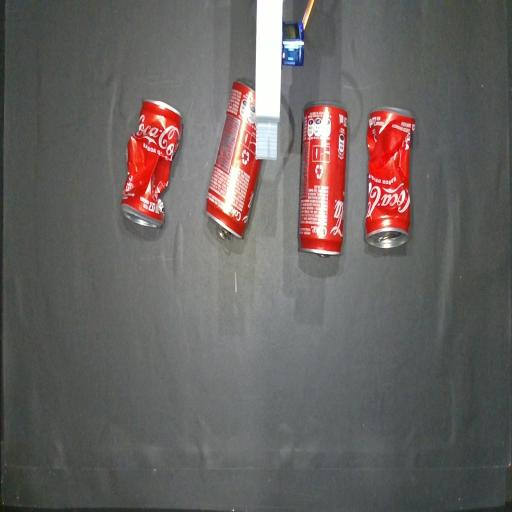lata: (206, 82, 262, 238), (298, 101, 347, 256)
lata_defectuoso: (121, 101, 182, 227), (365, 108, 414, 248)
